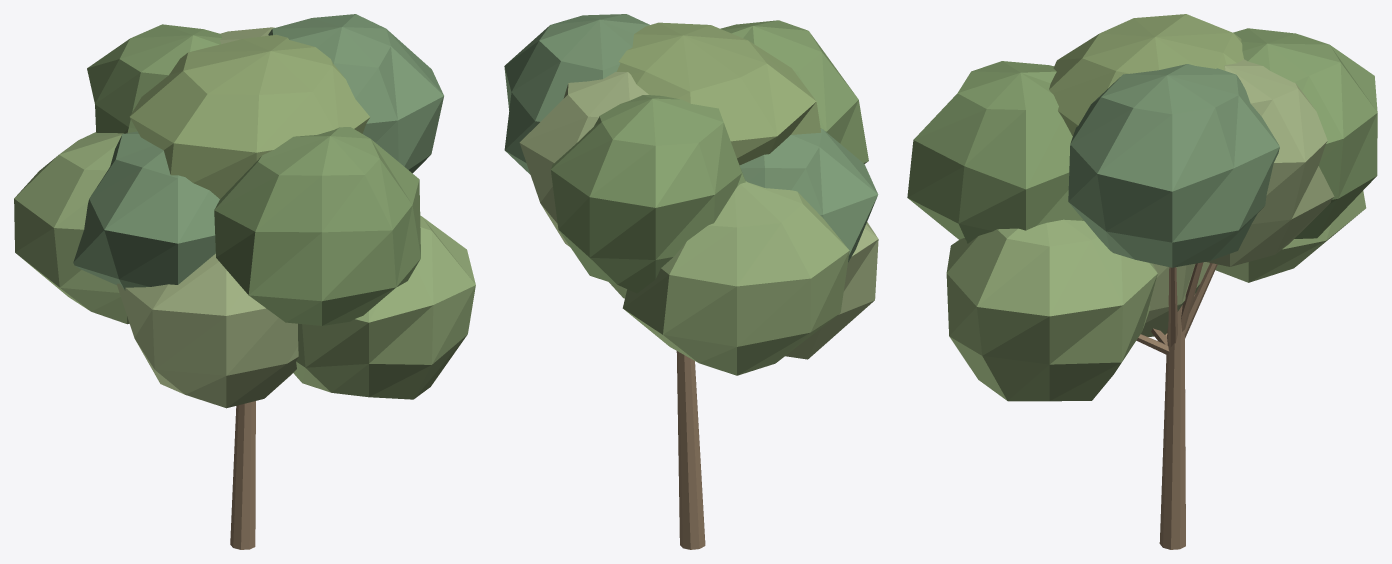
3 views of the same model, side by side, from view 1: azimuth 30°, elevation 25°; view 2: azimuth 150°, elevation 25°; view 3: azimuth 270°, elevation 25° (orthographic). The views are drawn at different scales.
Bounding box in the file's own units: 8.35 × 10.96 × 9.02.
